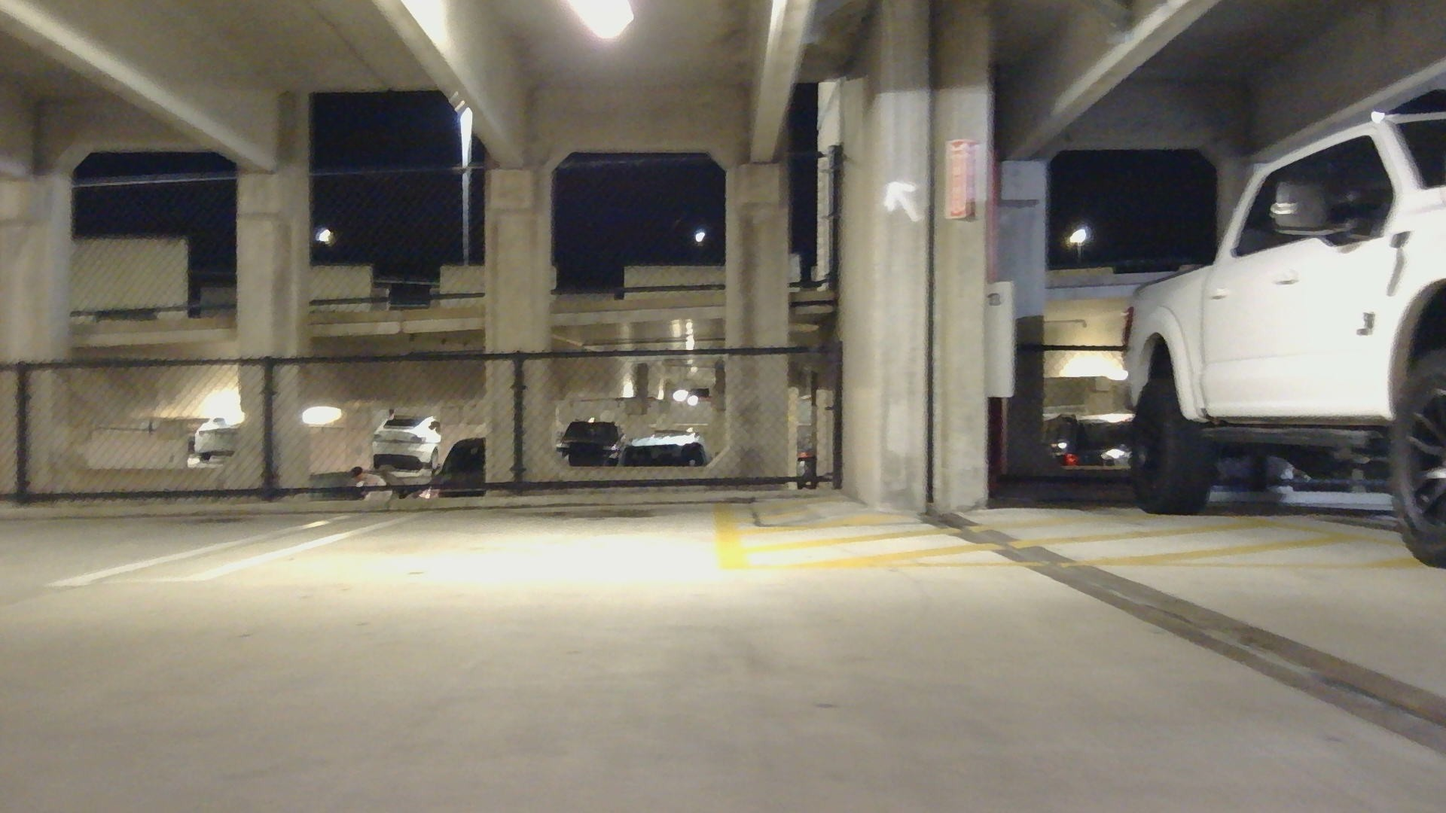empty_spot: (182, 430, 751, 583), (0, 438, 366, 600)
occupied_spot: (1113, 106, 1446, 570)
